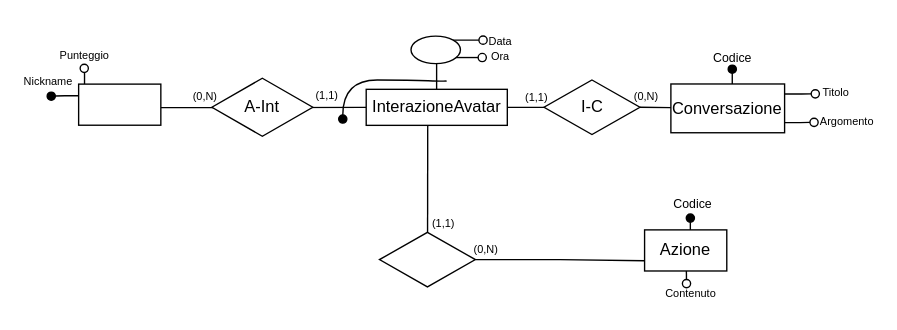
Some shapes in this 897 by 330 pixel diagram are drawn without their labels. The centre of each missing label's shape, as x and y in pixels:
"Avatar" belongs at (119,104).
"DataIntAv" belongs at (435,49).
"I-A" belongs at (426,259).
